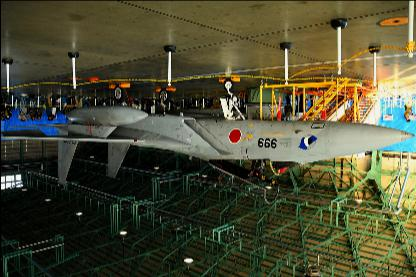F117: (1, 79, 415, 204)
